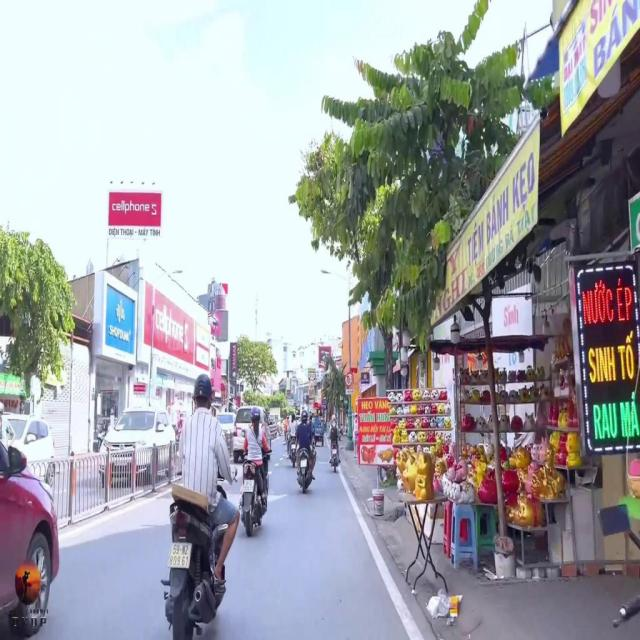cam_o_to_quay_dau_xe: (345, 371, 354, 389)
khac: (346, 389, 355, 395)
